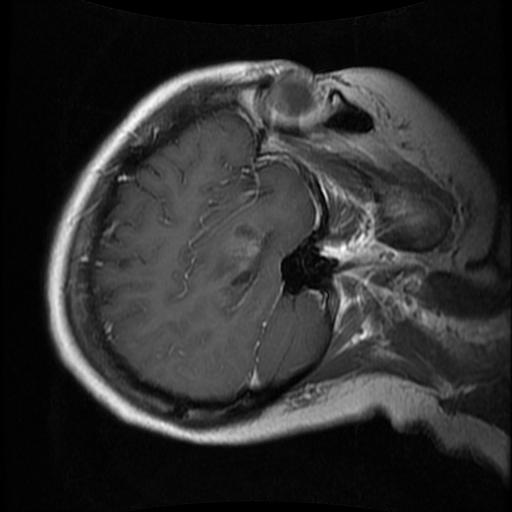glioma: (225, 222, 274, 297)
